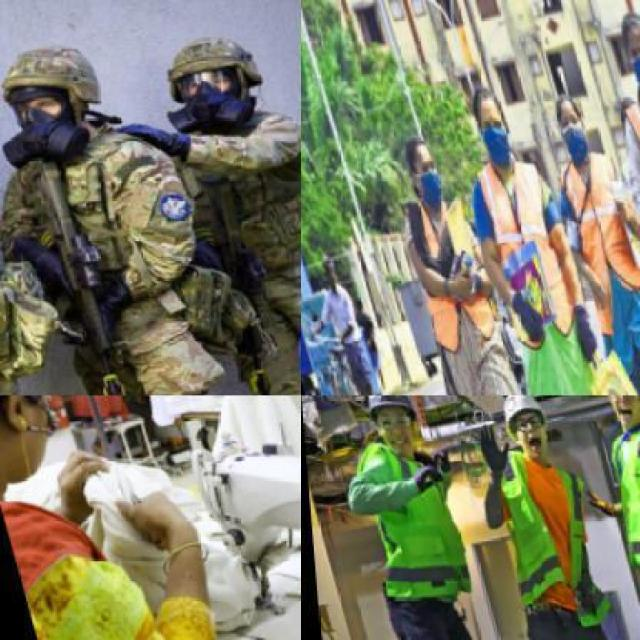vest: (0, 128, 200, 328), (474, 437, 611, 638), (340, 428, 475, 623), (463, 156, 575, 352), (168, 103, 298, 260), (543, 144, 639, 328), (394, 200, 492, 348), (591, 416, 638, 578)
